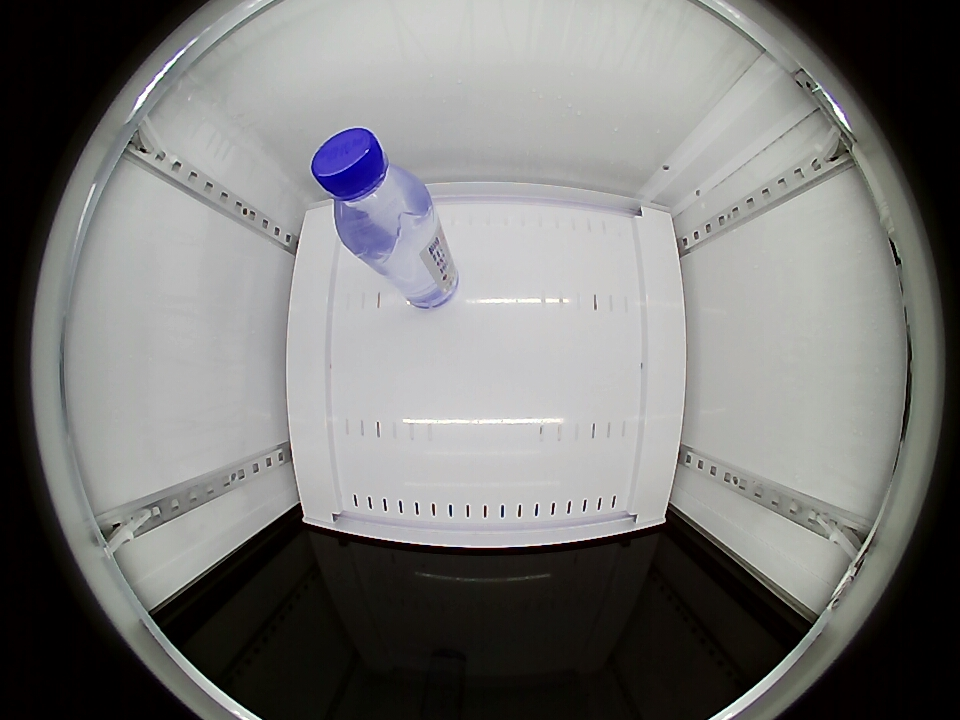aerbeisi: (310, 127, 432, 256)
